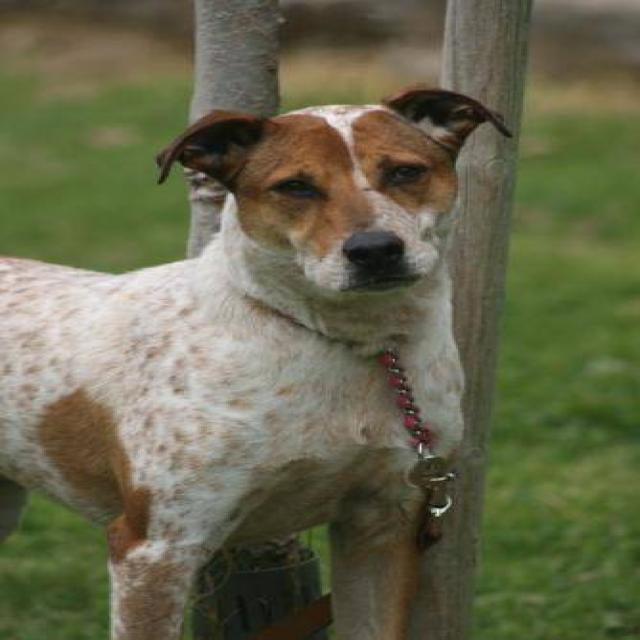dog: (0, 82, 512, 639)
